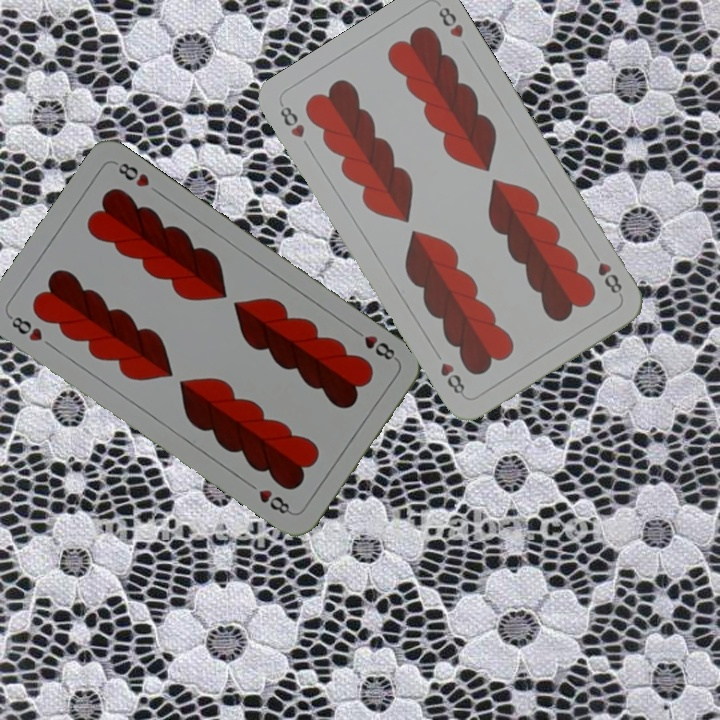H8: (349, 324, 400, 364), (587, 247, 625, 300), (4, 311, 45, 345), (276, 100, 308, 141)
